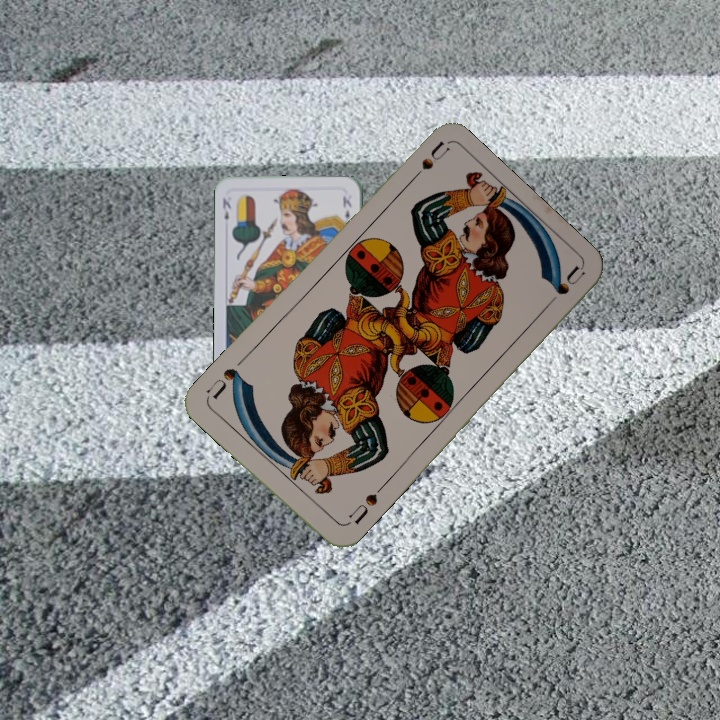EK: (219, 194, 234, 231)
SU: (403, 138, 451, 189), (342, 481, 387, 528)
